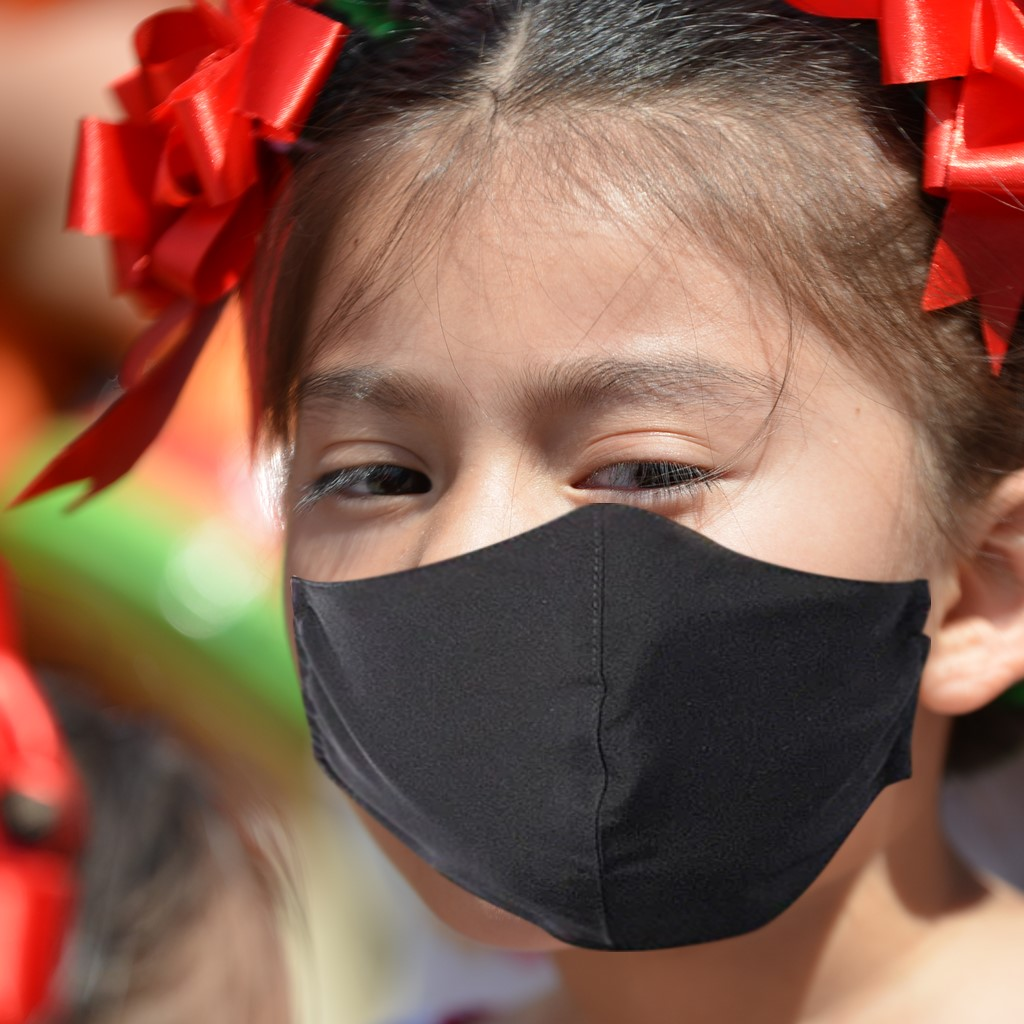con_mascara: (278, 85, 940, 938)
